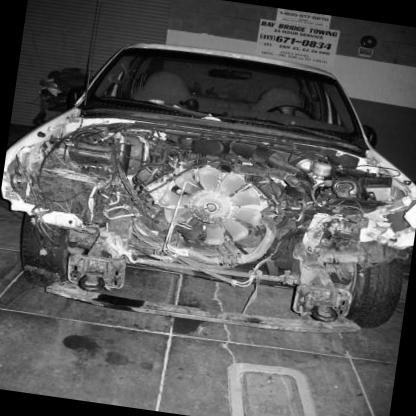car: (1, 6, 416, 358)
